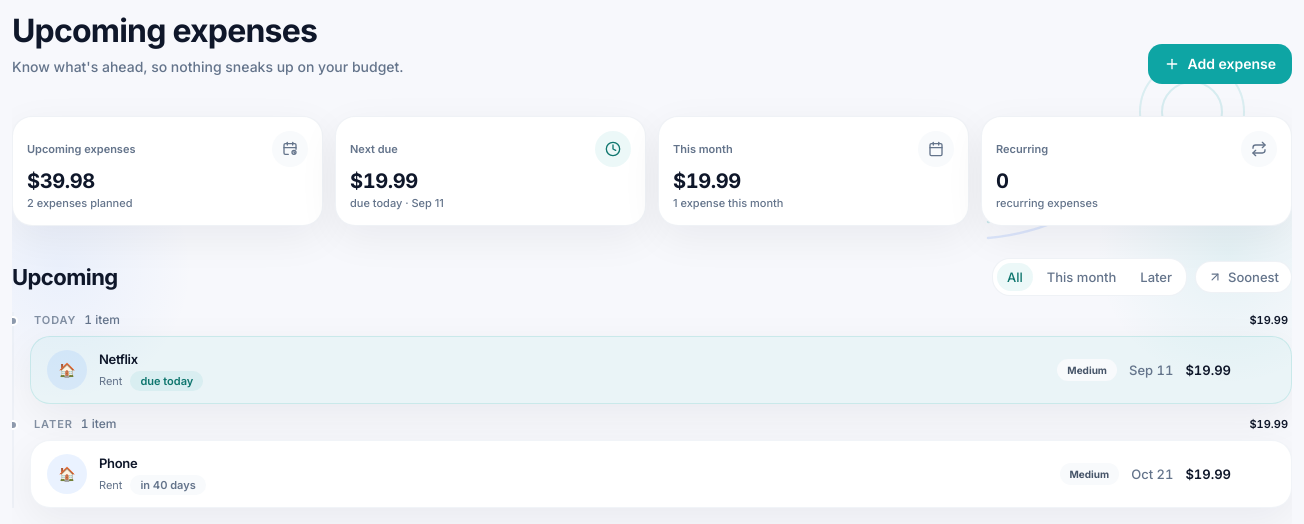
Scenario: UpcomingView › filters the timeline by This month and Later
Expected: the text "Netflix" is shown, [99, 351, 138, 367]
Expected: the text "Phone" is shown, [99, 455, 137, 471]
Click the button "This month": click(1082, 277) [1037, 263, 1126, 291]
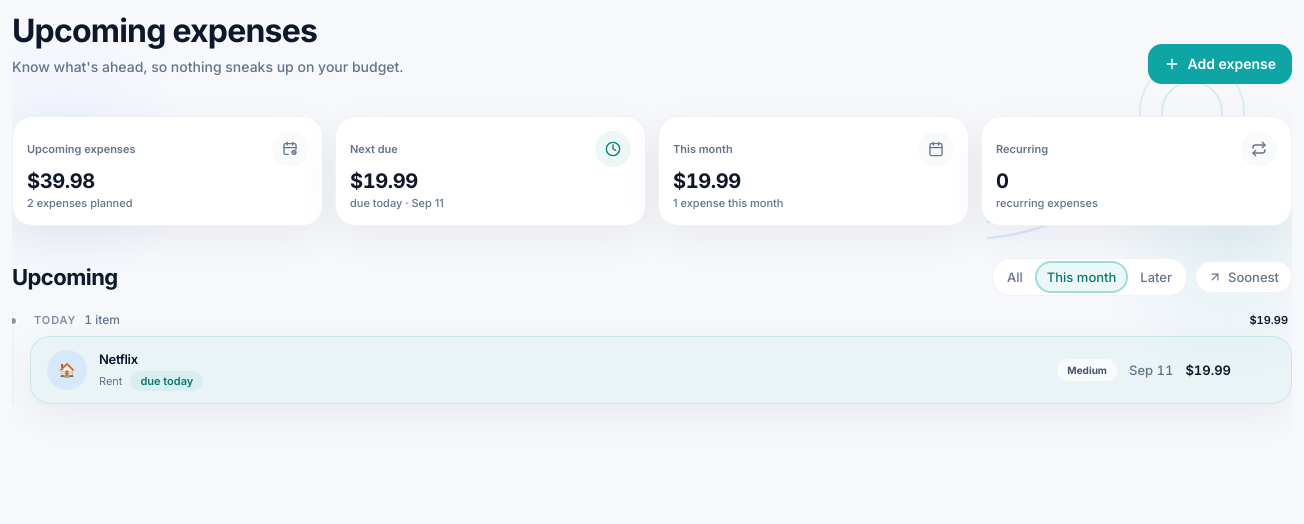
Expected: the text "Netflix" is shown, [99, 351, 138, 367]
Expected: the button "Phone" is gone
Click the button "Later": click(1156, 277) [1130, 263, 1182, 291]
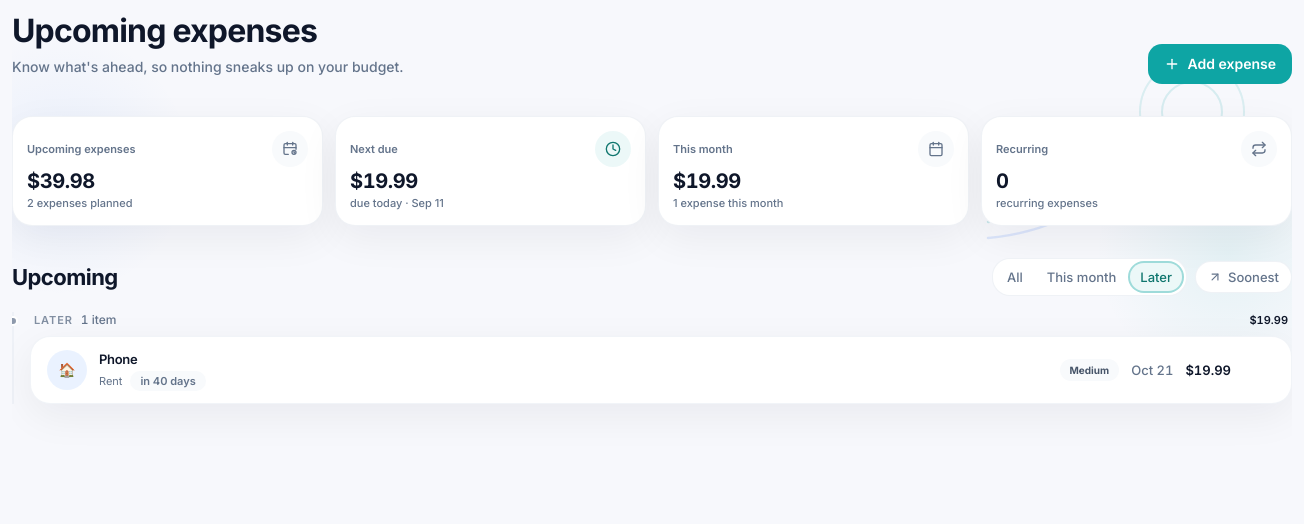
Expected: the button "Netflix" is gone
Expected: the text "Phone" is shown, [99, 351, 137, 367]
